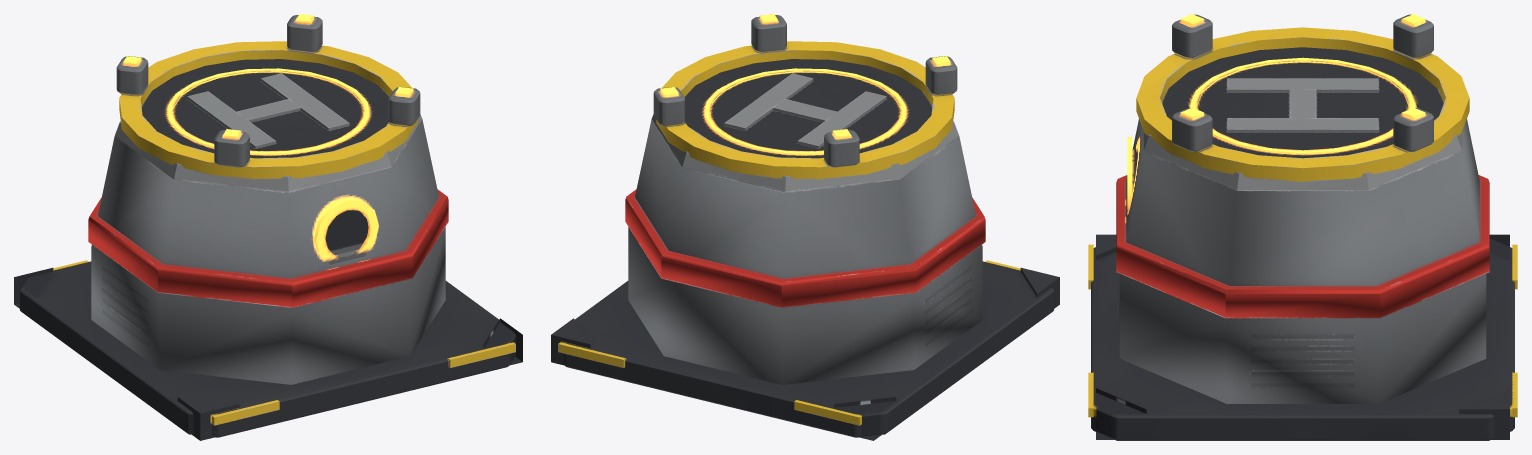
File: R4X_FlyingDroneDeployer_LOD1.glb
3 views of the same model, side by side, from view 1: azimuth 30°, elevation 25°; view 2: azimuth 150°, elevation 25°; view 3: azimuth 270°, elevation 25° (orthographic). The views are drawn at different scales.
Visible parts, largest first — view 1: R4X_FlyingDroneDeployer_LOD1; view 2: R4X_FlyingDroneDeployer_LOD1; view 3: R4X_FlyingDroneDeployer_LOD1.
Boxes of the visible parts, x1=… form: R4X_FlyingDroneDeployer_LOD1: x1=14, y1=14, x2=522, y2=440; R4X_FlyingDroneDeployer_LOD1: x1=551, y1=14, x2=1059, y2=440; R4X_FlyingDroneDeployer_LOD1: x1=1088, y1=14, x2=1517, y2=440.
Bounding box in the file's own units: 0.504 × 0.376 × 0.51.
Materials: 1 (1 with a texture image).
